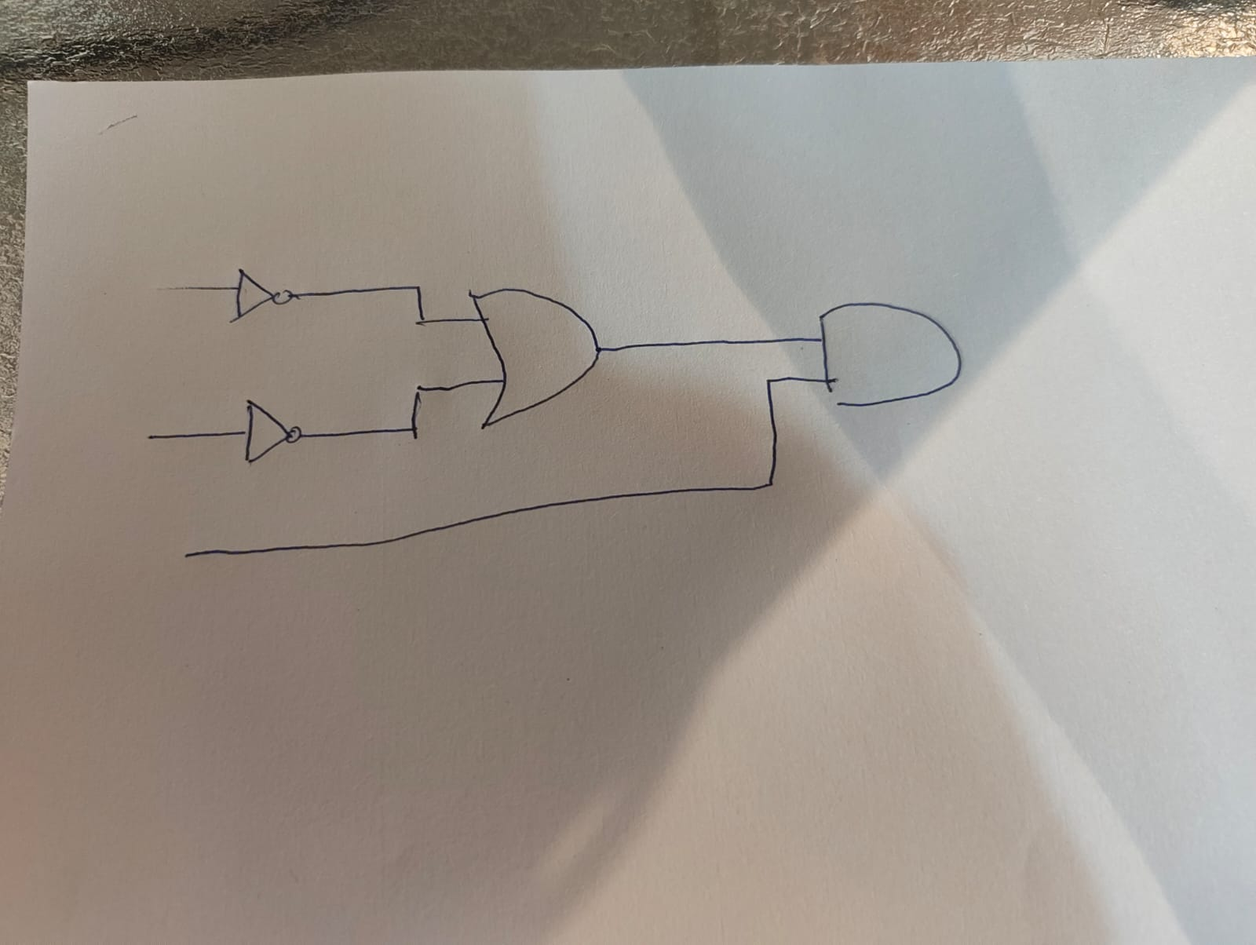and gate: (817, 297, 962, 412)
not gate: (246, 404, 302, 462), (235, 274, 294, 319)
or gate: (475, 291, 599, 424)
